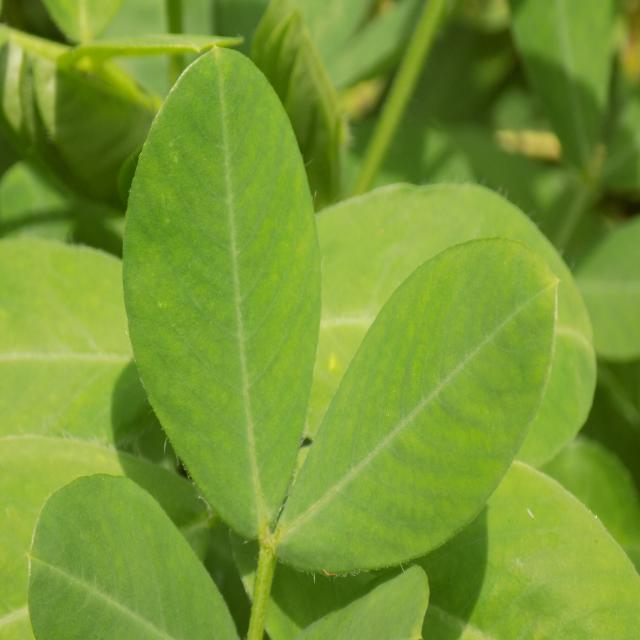Ground nut_healthy: (192, 186, 598, 486), (127, 48, 323, 546), (275, 237, 553, 577)
